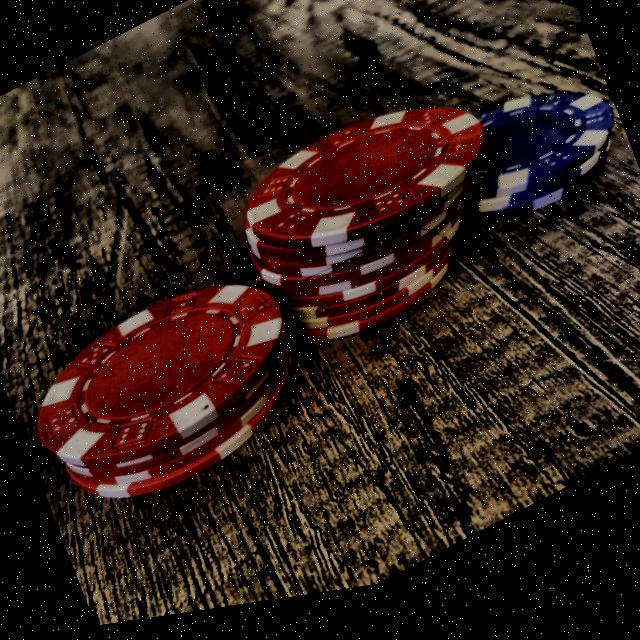Chip: (205, 48, 540, 398), (3, 224, 339, 565), (416, 63, 620, 270)
